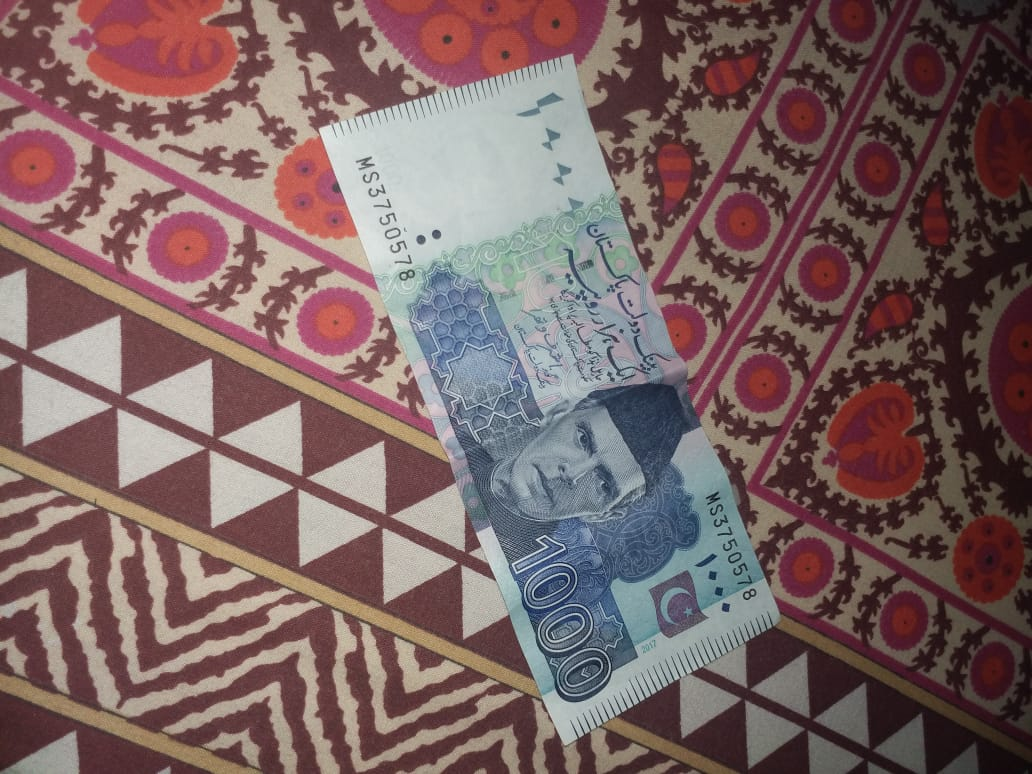1000 rupee: (335, 63, 784, 721)
